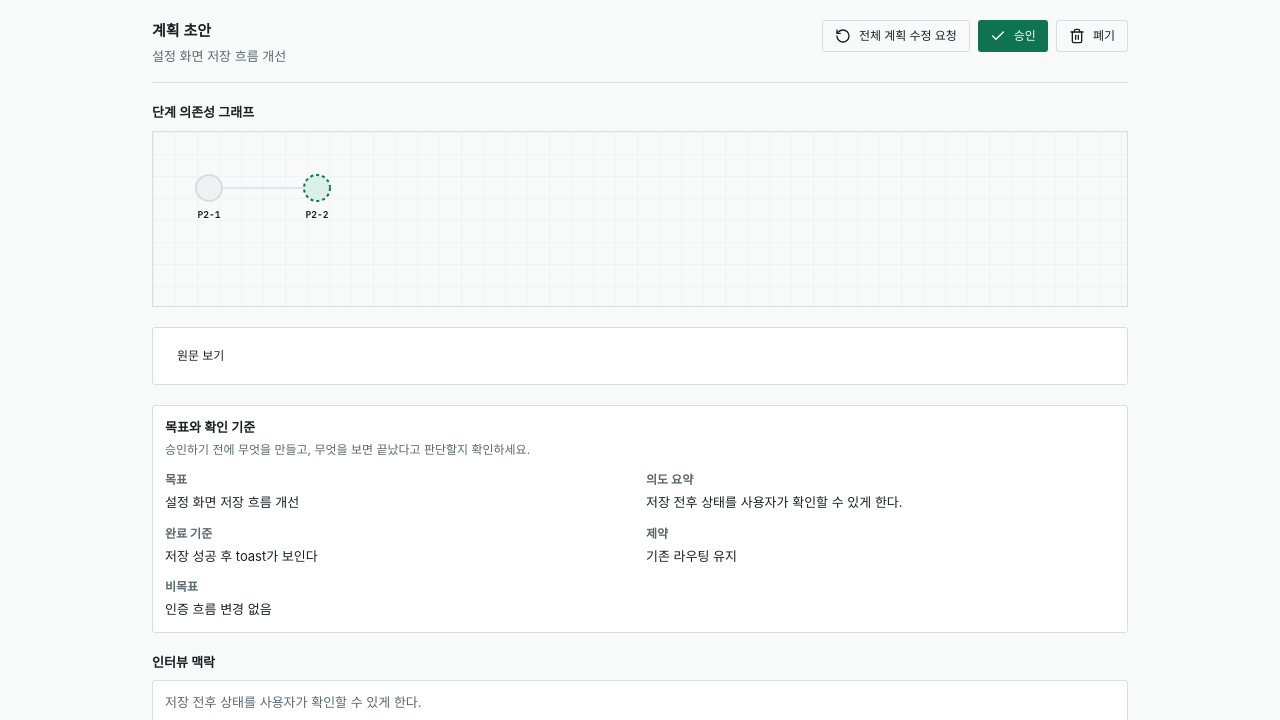
Test: PlanDraftApprovalScreen discard confirmation (R8/D-37) › does not discard immediately — opens a confirmation dialog first
Click the button with test id "plan-draft-discard" at coordinates (1092, 36), box 1056,20 -> 1128,52
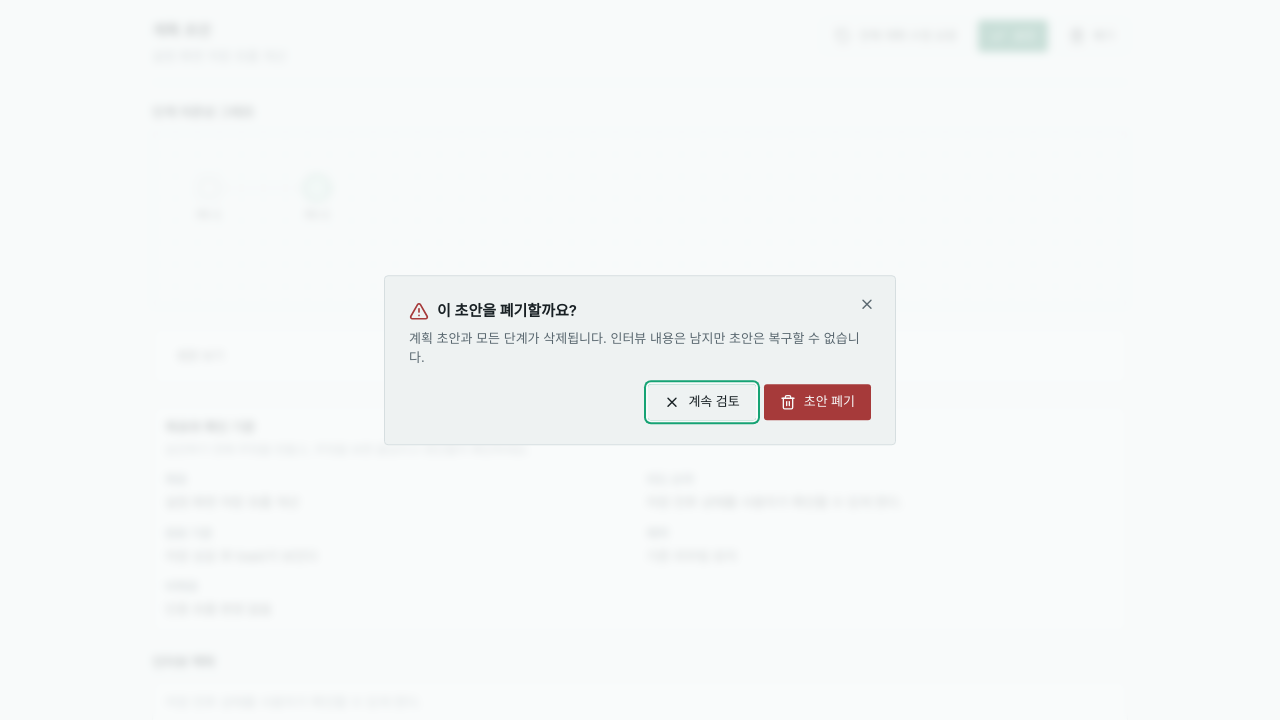
Expected: the dialog with test id "plan-draft-discard-confirm" is shown, 384,275 -> 896,445
